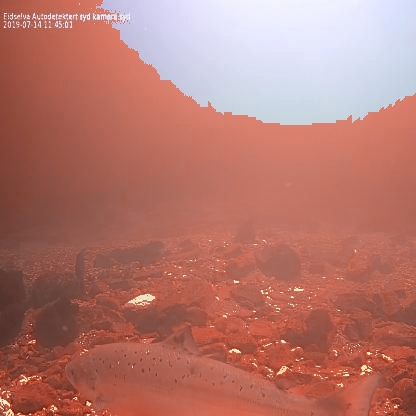salmon: (63, 322, 383, 416)
